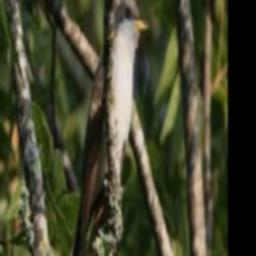Cuckoo: (63, 0, 150, 256)
